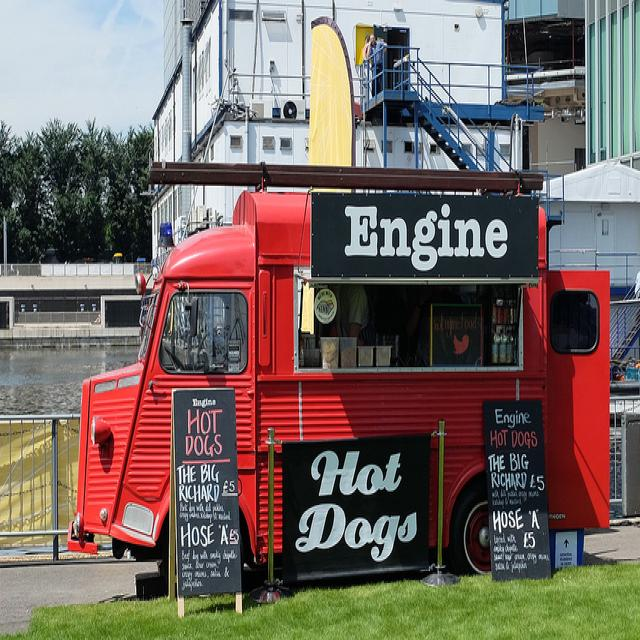Vehicle: (69, 168, 613, 587)
